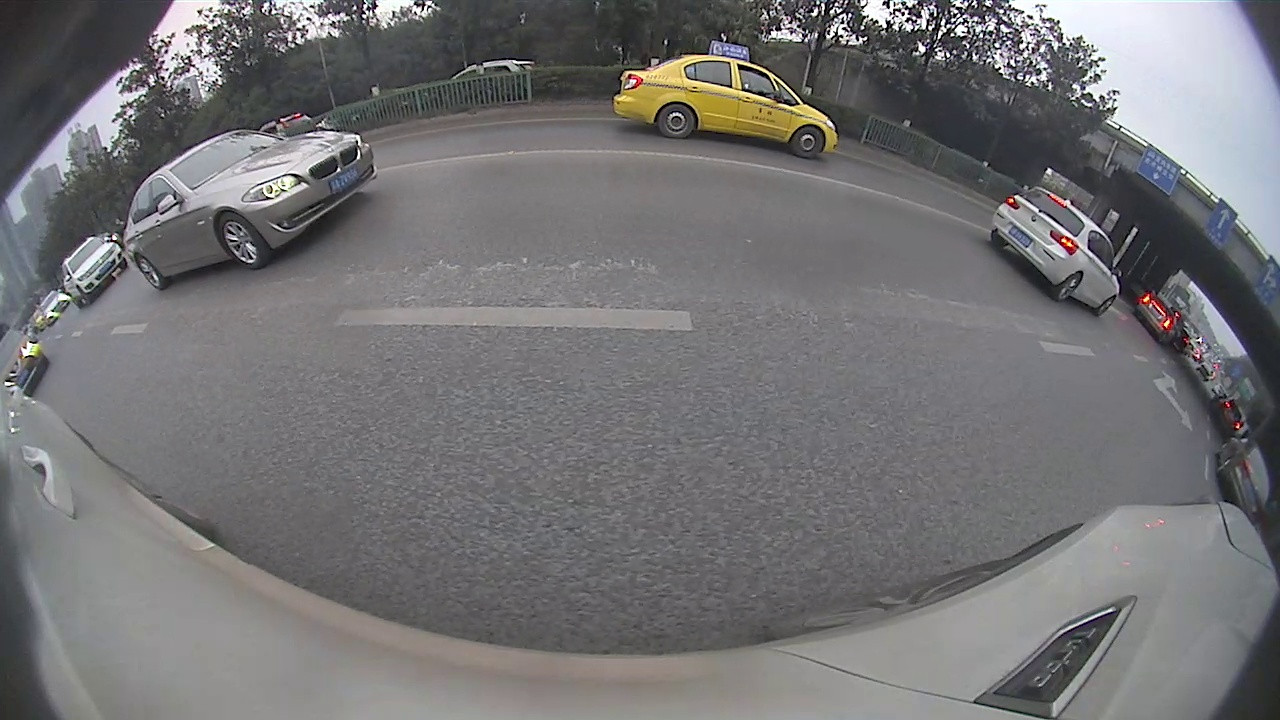car: (122, 129, 381, 293), (612, 54, 841, 159), (993, 188, 1122, 316), (57, 237, 130, 308), (1217, 432, 1273, 520), (1, 329, 50, 396)
front: (218, 212, 268, 270), (792, 124, 826, 159), (1097, 294, 1118, 318)
rear: (659, 102, 698, 139), (134, 255, 168, 292), (1053, 273, 1084, 304)
